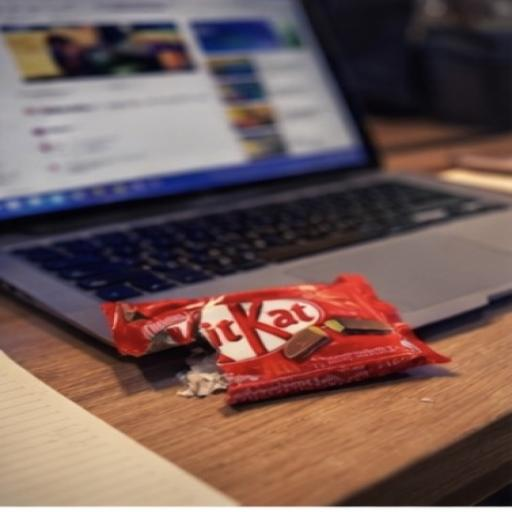kitkat: (47, 255, 485, 442)
